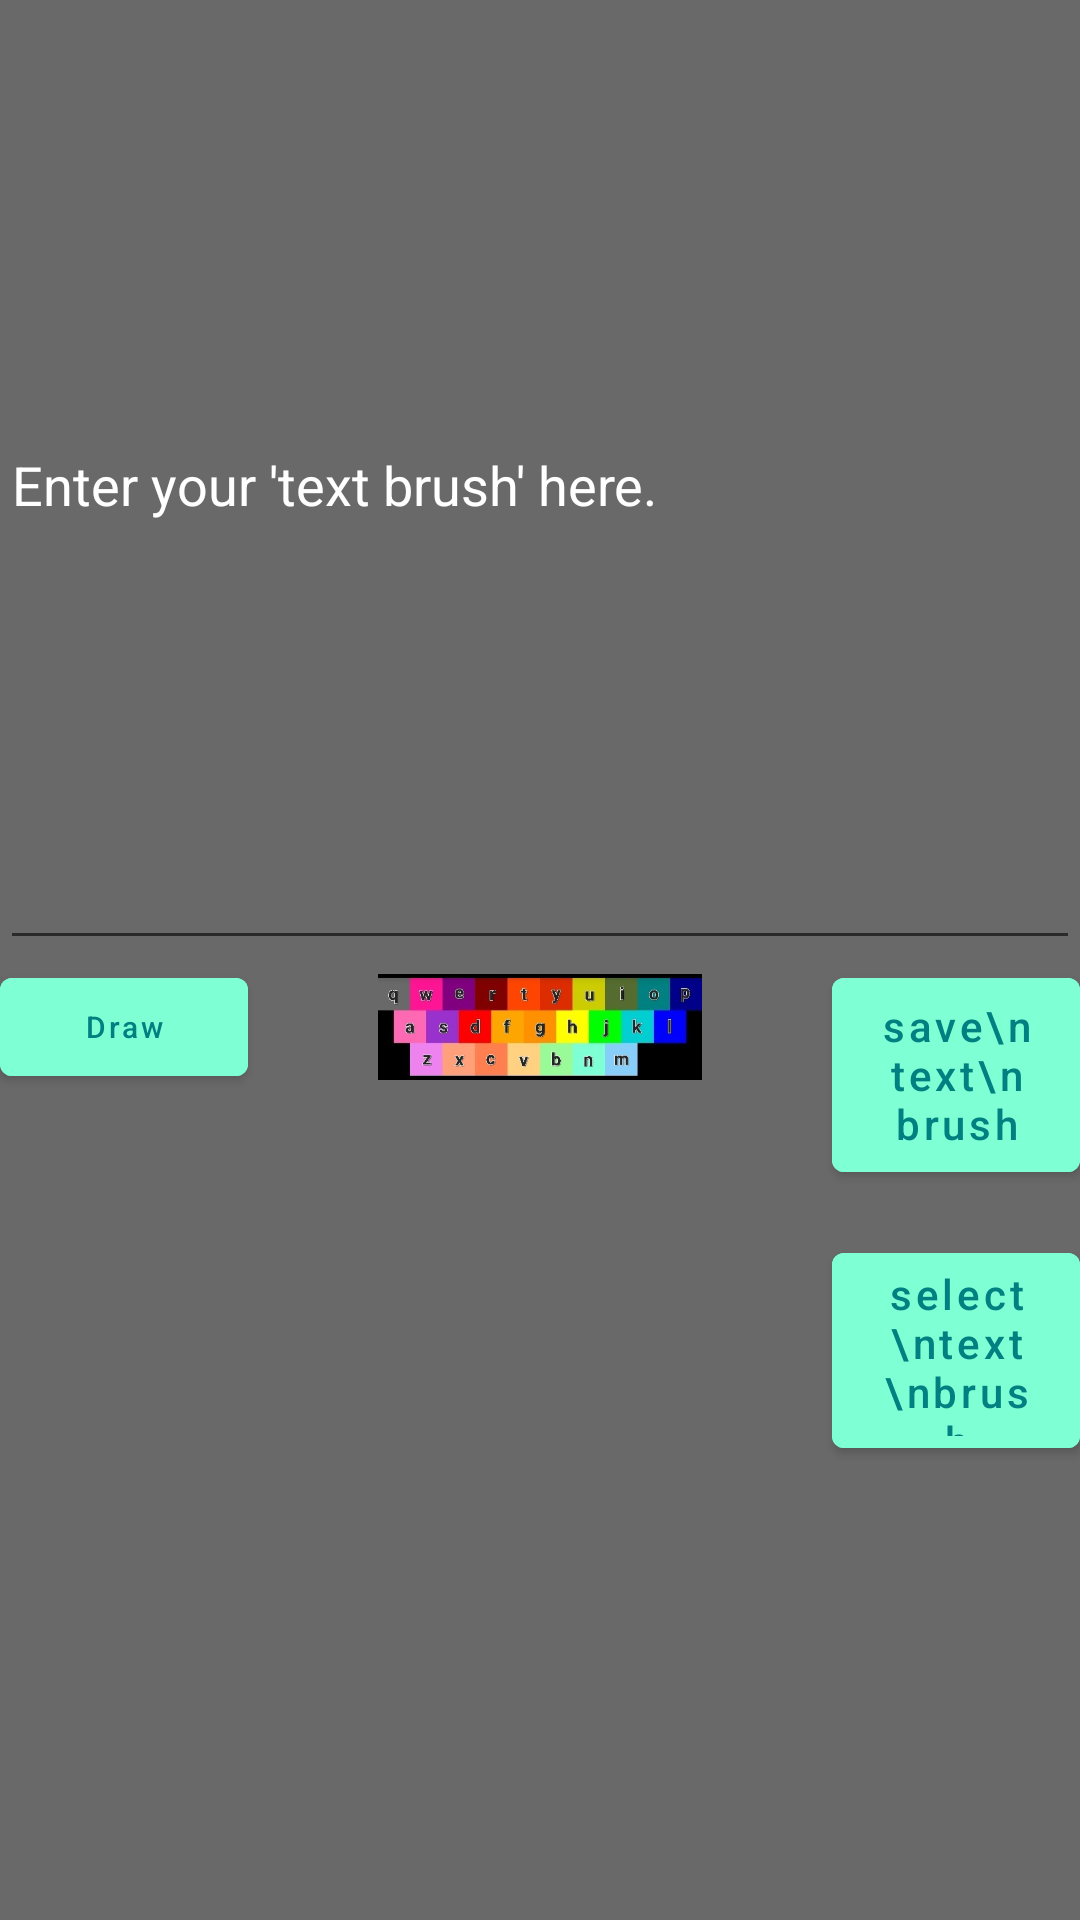

Screen size 1080px x 1920px. Icon name, then its center in pixels as (x,y):
keyboard layout: (540,1027)
